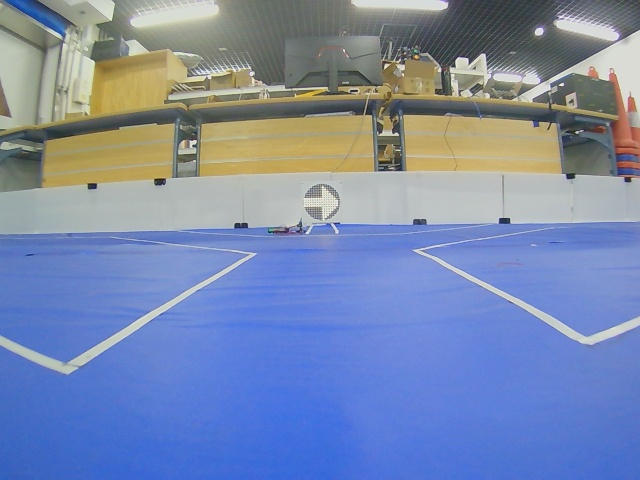right_yellow: (303, 184, 341, 221)
